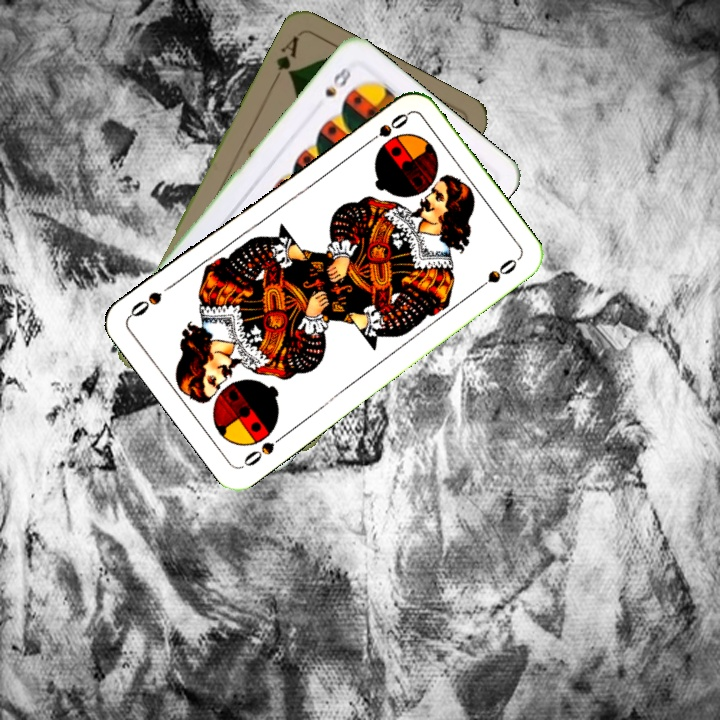GA: (268, 32, 301, 87)
S8: (320, 63, 354, 100)
SO: (238, 429, 289, 470), (360, 109, 412, 149)
